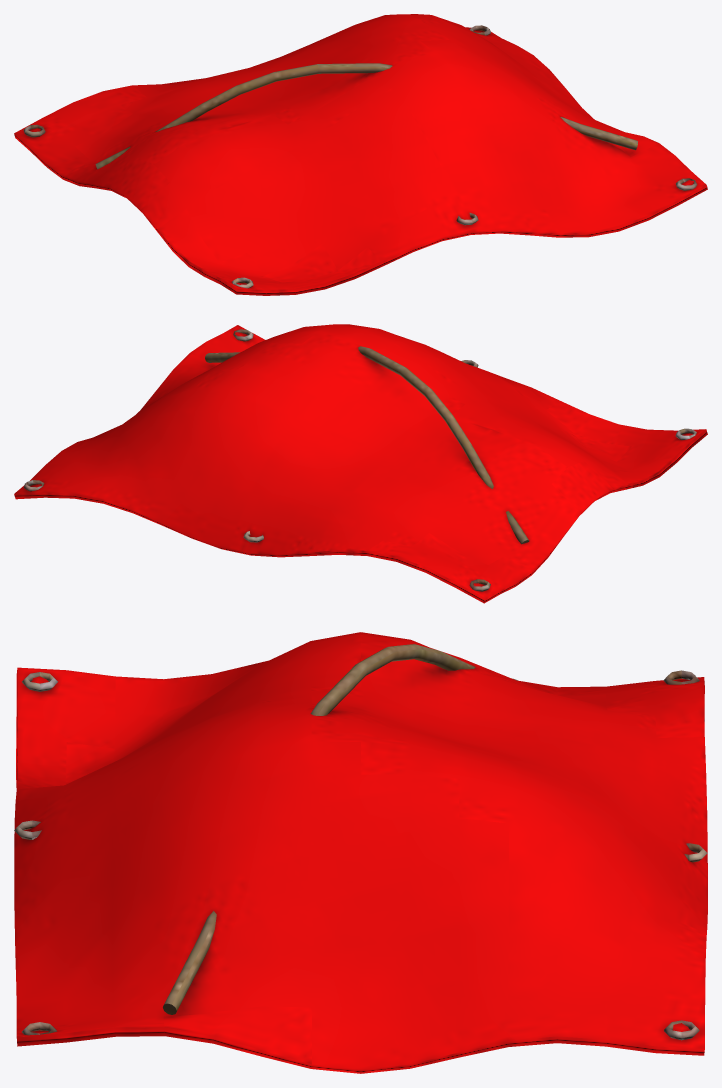
Rendered from tarp.glb.
3 views of the same model, one above another, from view 1: azimuth 30°, elevation 25°; view 2: azimuth 150°, elevation 25°; view 3: azimuth 270°, elevation 25° (orthographic). The views are drawn at different scales.
Parts seen in each view (by area): view 1: body; view 2: body; view 3: body.
Part boxes in pixels (x1=…): body: x1=14, y1=14, x2=707, y2=295; body: x1=14, y1=324, x2=707, y2=603; body: x1=14, y1=632, x2=707, y2=1073.
Bounding box in the file's own units: 1.11 × 0.2951 × 0.9085.
1 material, 1 textured.
